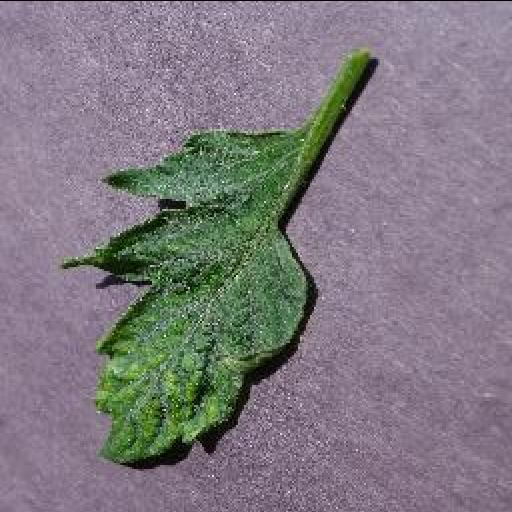Mosaic Virus: (56, 124, 316, 470)
